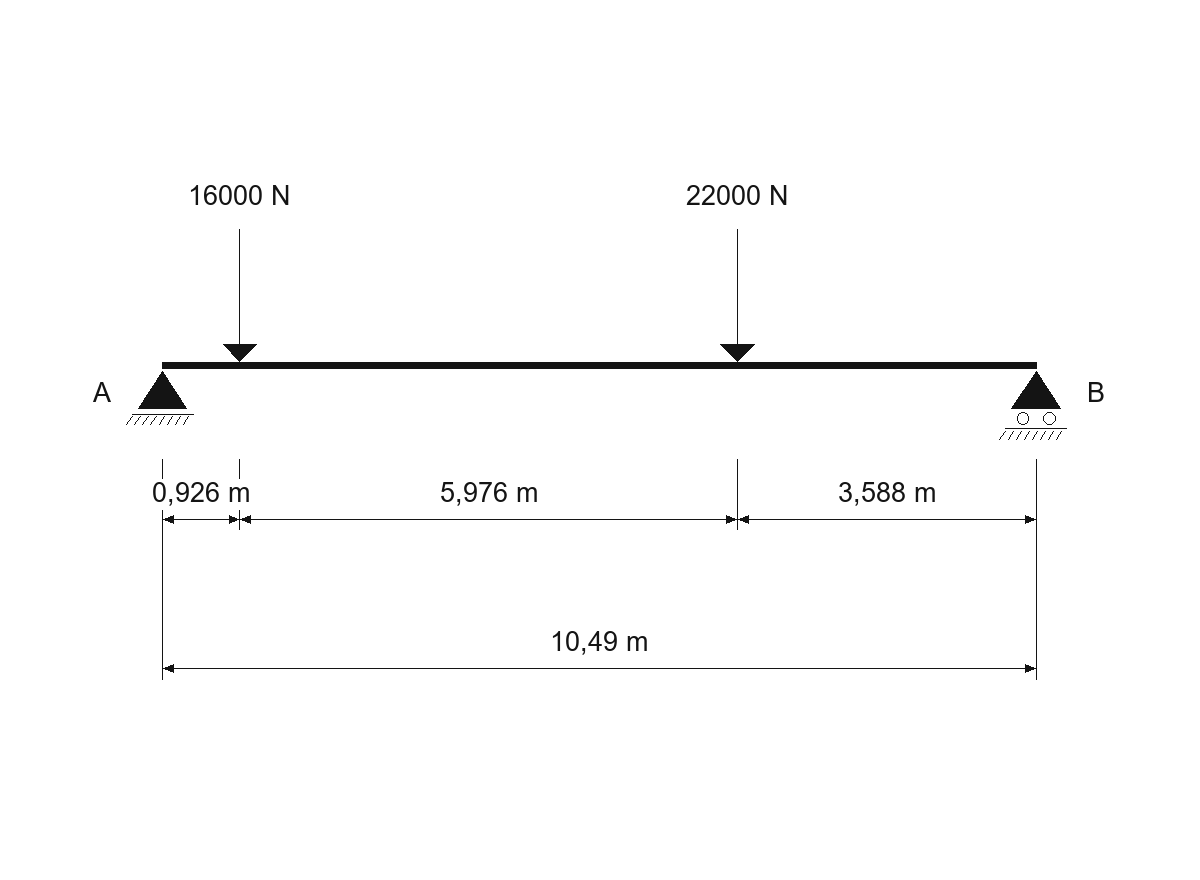pin_support: (126, 371, 194, 425)
point_load: (720, 229, 755, 362), (223, 229, 257, 362)
roller_support: (999, 371, 1067, 440)
